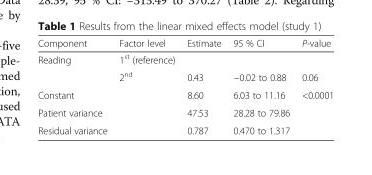table: (37, 37, 333, 135)
table column: (37, 37, 112, 135), (226, 37, 295, 135), (112, 37, 180, 135), (180, 37, 226, 135), (295, 37, 333, 135)
table column header: (37, 37, 333, 50)
table row: (37, 67, 333, 85), (37, 85, 333, 103), (37, 103, 333, 121), (37, 50, 333, 67), (37, 121, 333, 135), (37, 37, 333, 50)
table spanning cell: (37, 50, 112, 85)
